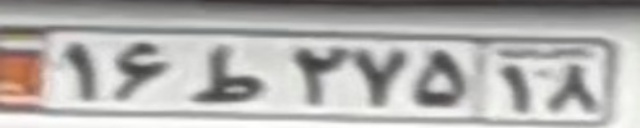1: (60, 40, 99, 100), (498, 62, 531, 112)
2: (289, 46, 348, 107)
5: (410, 47, 465, 107)
6: (111, 40, 169, 98)
7: (352, 45, 406, 105)
8: (543, 62, 596, 113)
taa: (190, 47, 258, 102)
